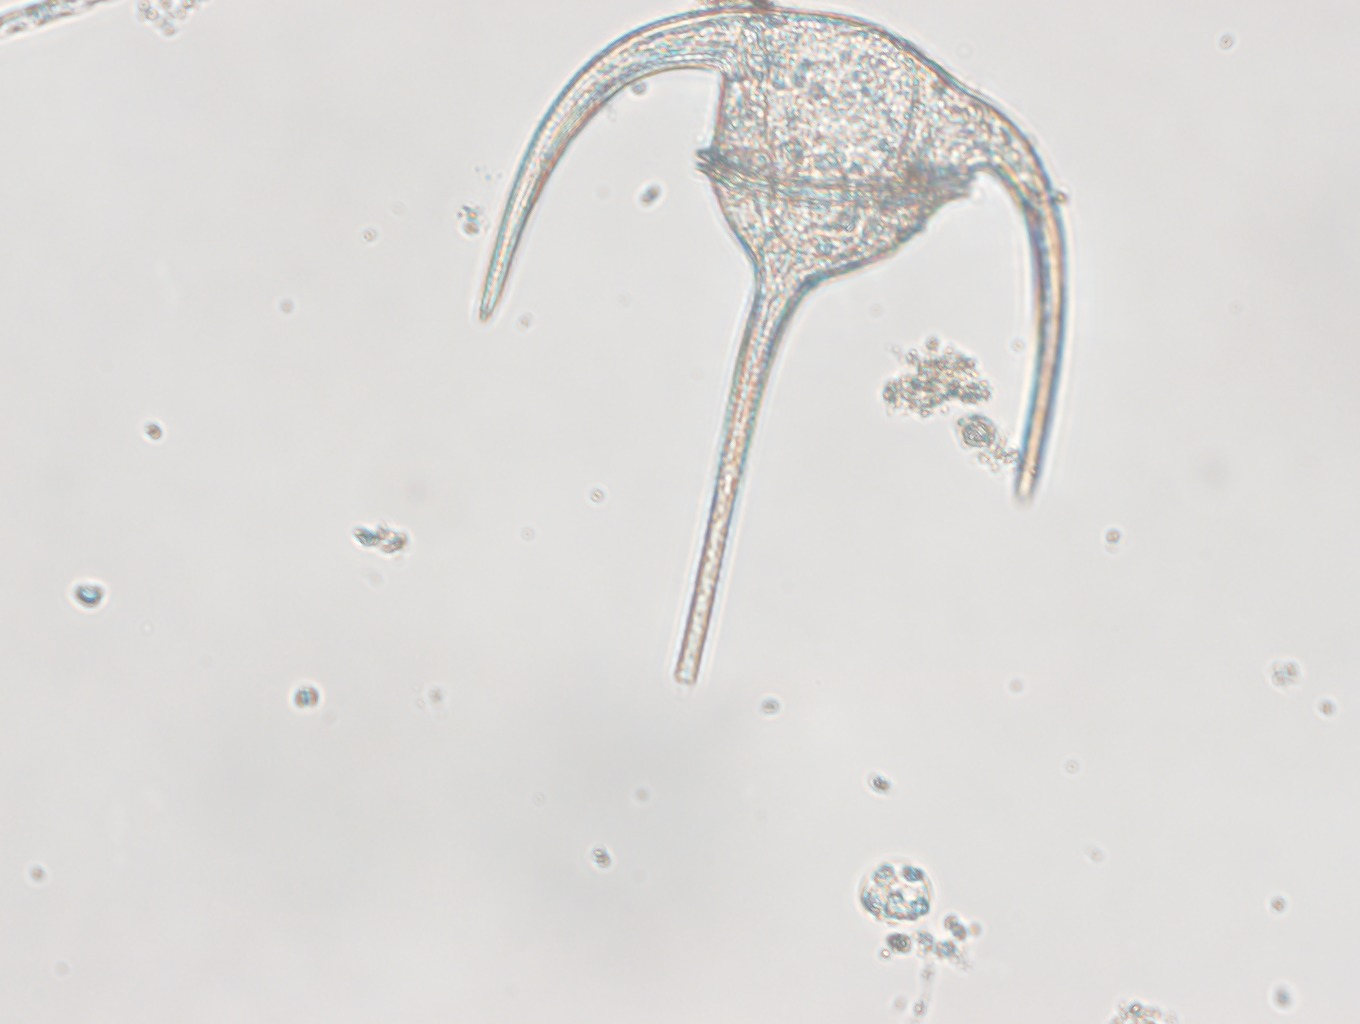ceratium tripos: (477, 3, 1066, 686)
